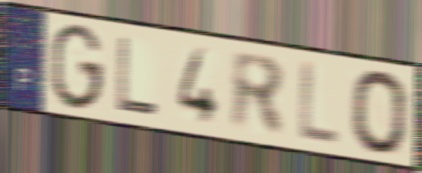4: (176, 45, 221, 127)
G: (48, 21, 106, 113)
L: (296, 57, 341, 150), (115, 33, 161, 119)
O: (349, 67, 410, 158)
R: (229, 47, 287, 140)
